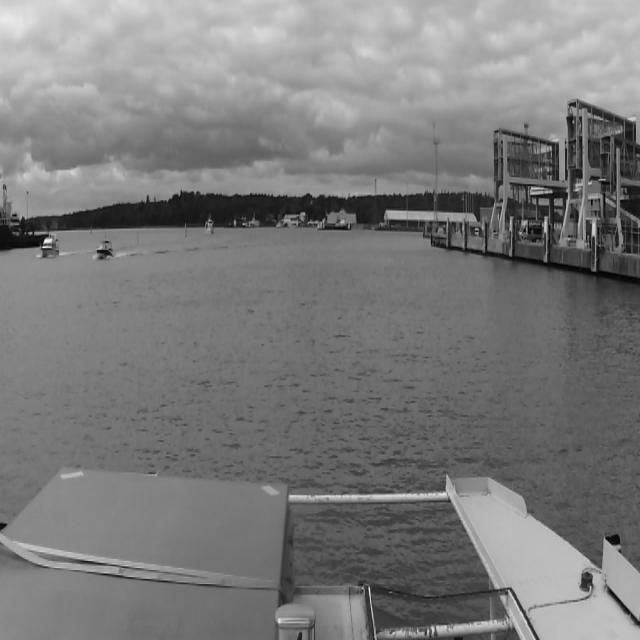buoy: (185, 222, 188, 238), (90, 227, 92, 234)
ship: (40, 234, 60, 258), (96, 239, 114, 260), (204, 218, 214, 235)
